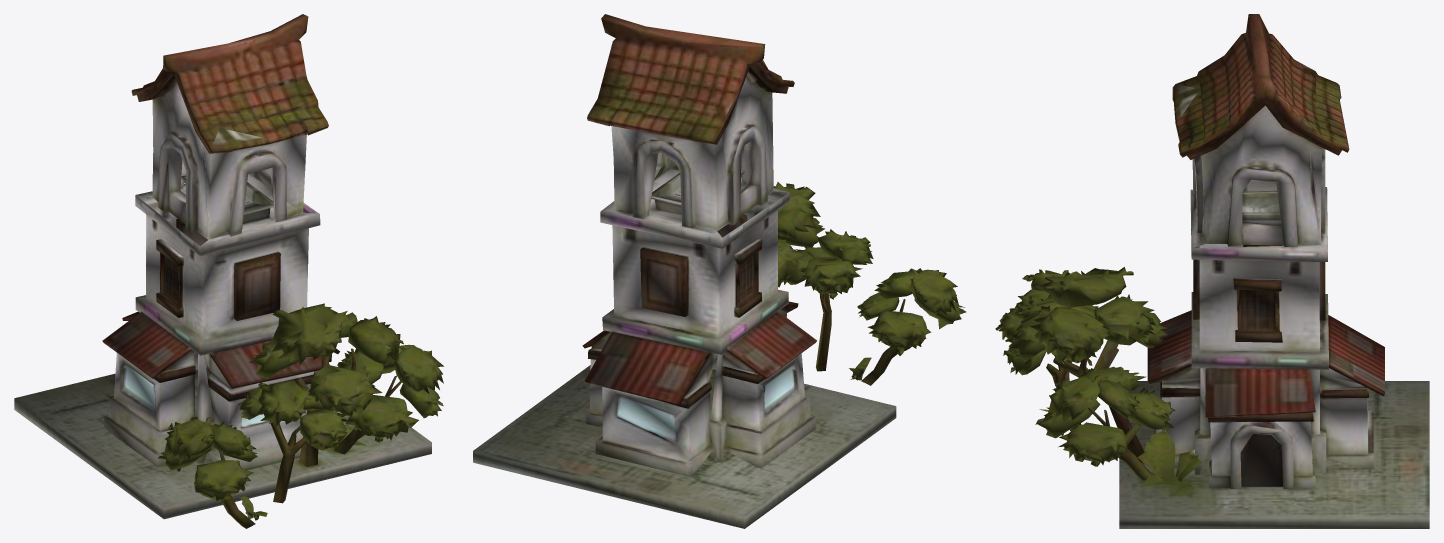
Rendered from lm_turtle_tower.glb.
The picture shows the model from 3 angles, left to right: view 1: azimuth 30°, elevation 25°; view 2: azimuth 150°, elevation 25°; view 3: azimuth 270°, elevation 25°; orthographic projection. The views are drawn at different scales.
Visible parts, largest first — view 1: Body; view 2: Body; view 3: Body.
Boxes of the visible parts, <box> form: Body: <box>14,14,443,528</box>; Body: <box>473,14,966,528</box>; Body: <box>995,14,1429,528</box>.
Bounding box in the file's own units: 9.32 × 12 × 11.44.
Materials: 1 (1 with a texture image).
